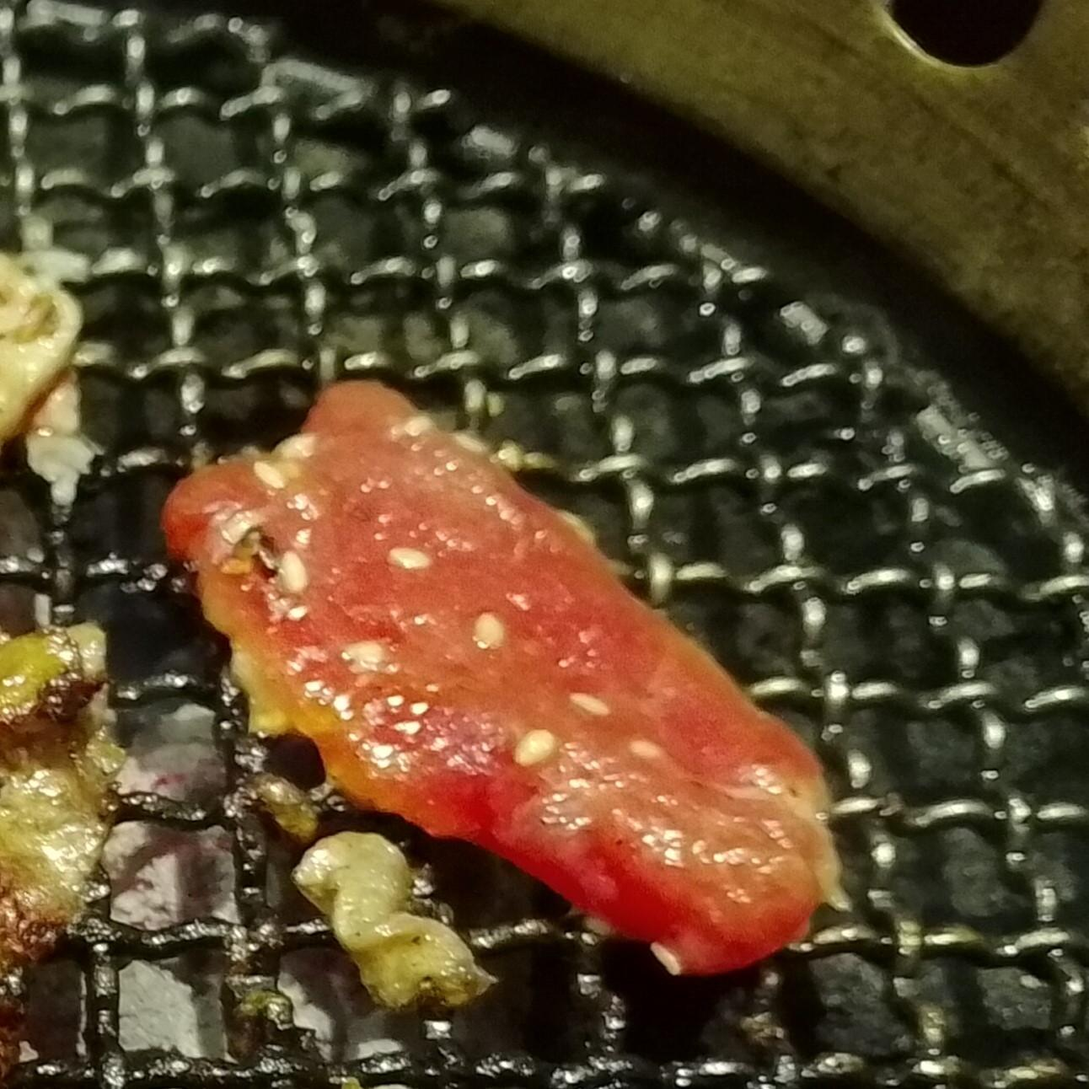Overcooked: (0, 591, 122, 1080)
Undercooked: (159, 379, 841, 981)
